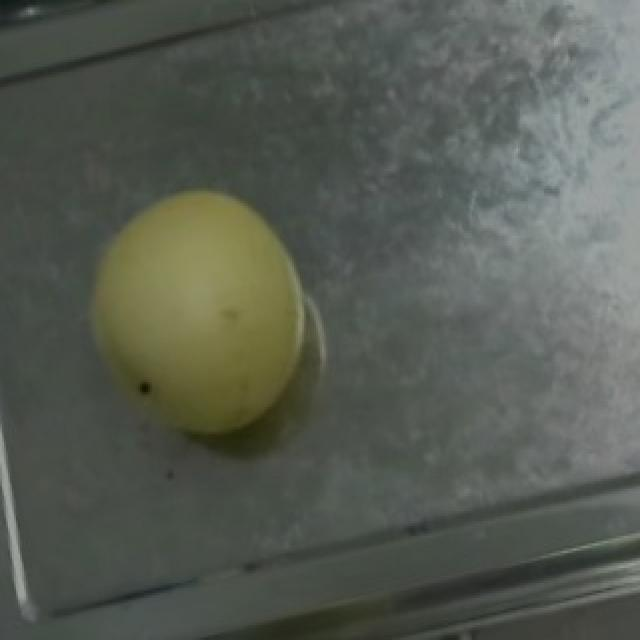Fruit: (54, 154, 350, 469)
